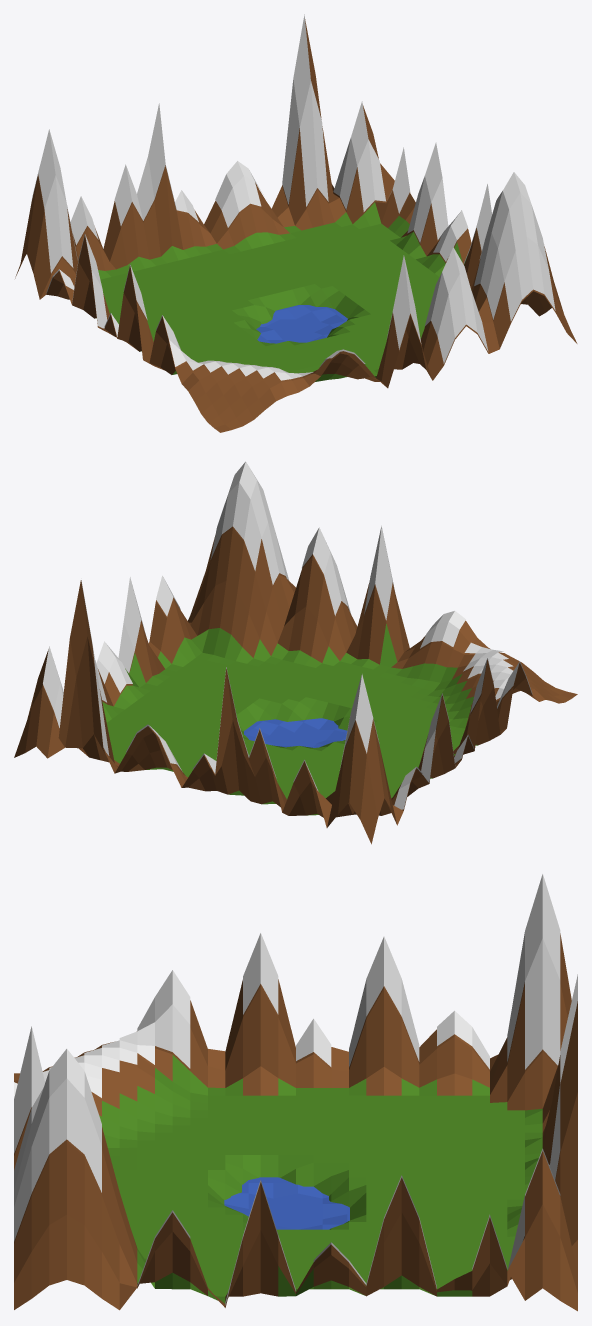
Rendered from Ground_Rock_Water.fbx.
The picture shows the model from 3 angles, top to bottom: view 1: azimuth 30°, elevation 25°; view 2: azimuth 150°, elevation 25°; view 3: azimuth 270°, elevation 25°; orthographic projection. The views are drawn at different scales.
Parts seen in each view (by area): view 1: Plane, Water; view 2: Plane, Water; view 3: Plane, Water.
Part boxes in pixels (left/top/right/bottom): Plane: left=15, top=14, right=577, bottom=432; Water: left=256, top=305, right=347, bottom=343; Plane: left=14, top=461, right=577, bottom=844; Water: left=244, top=718, right=347, bottom=747; Plane: left=14, top=874, right=577, bottom=1311; Water: left=224, top=1177, right=349, bottom=1229.
Size of the model in its own units: 5000 by 2986 by 5000.
